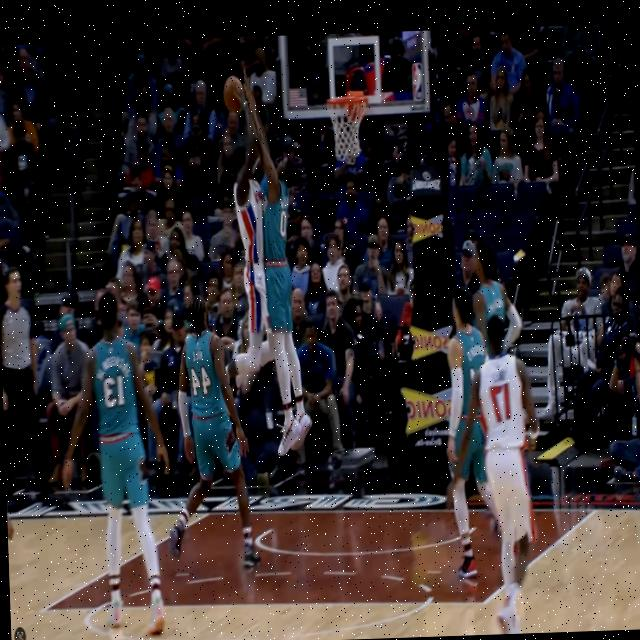foul: (220, 42, 312, 468)
no foul: (75, 273, 173, 640), (158, 274, 262, 605), (434, 277, 502, 590), (480, 289, 540, 634)
